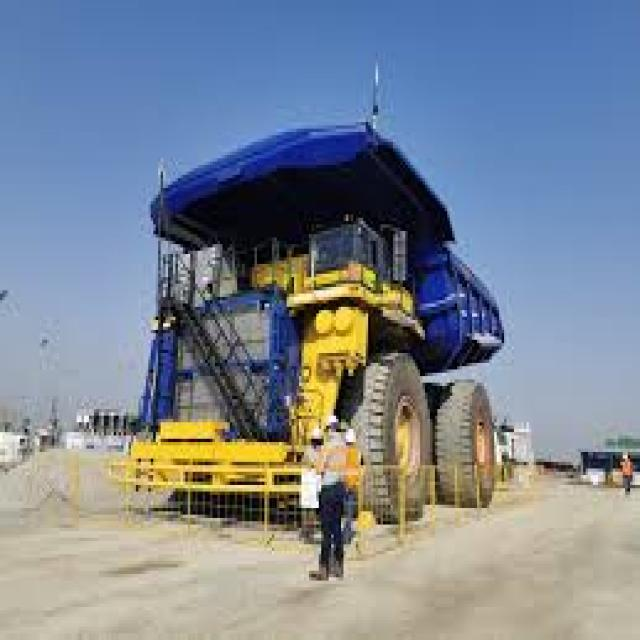dump_truck: (136, 125, 541, 578)
